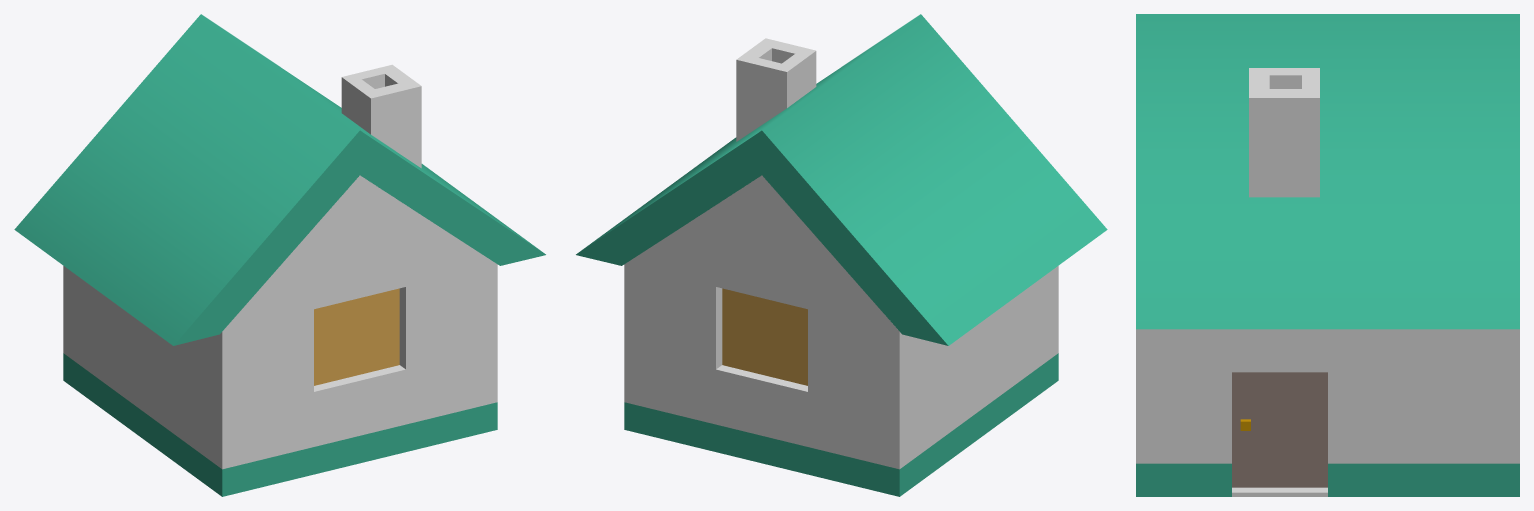
The model's file is TealWhiteHouse.fbx.
3 renders of one model, left to right at view 1: azimuth 30°, elevation 25°; view 2: azimuth 150°, elevation 25°; view 3: azimuth 270°, elevation 25°, orthographic. The views are drawn at different scales.
Parts seen in each view (by area): view 1: geo_Base, geo_roof, geo_Chimney; view 2: geo_Base, geo_roof, geo_Chimney; view 3: geo_roof, geo_Base, geo_Chimney.
Part boxes in pixels (x1,y1,x2,y2): geo_Base: (63,175,497,496); geo_roof: (14,14,545,345); geo_Chimney: (341,64,421,168); geo_Base: (624,175,1058,496); geo_roof: (576,14,1107,345); geo_Chimney: (736,38,816,141); geo_roof: (1136,14,1519,329); geo_Base: (1136,329,1519,496); geo_Chimney: (1249,68,1319,197).
Size of the model in its own units: 266 by 227 by 197.
